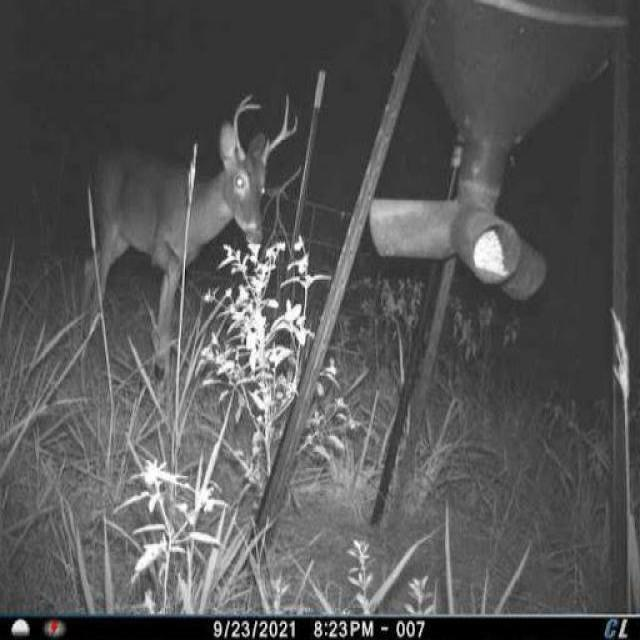deer: (71, 93, 299, 400)
